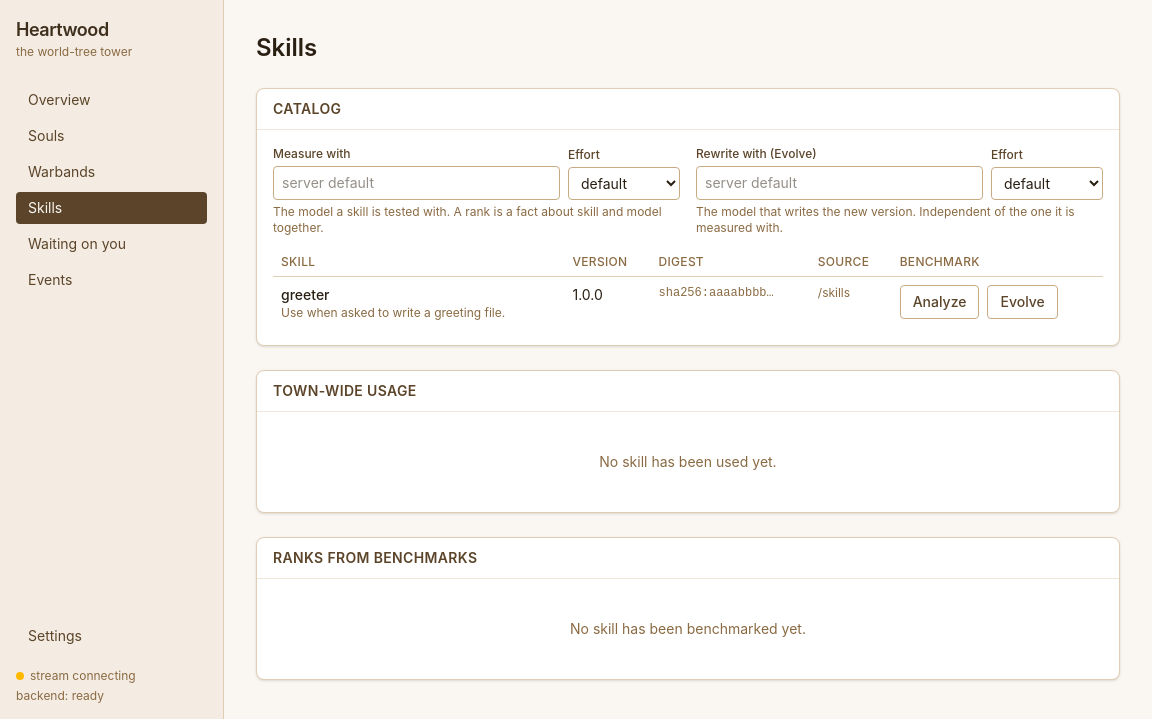
Test: pages › skills catalog actions › says so when a benchmark was inconclusive instead of inventing a rank
What coordinates should you click on to do the following:
click the button "Analyze"
I would click on:
 (940, 302)
Its box is left=900, top=285, right=980, bottom=319.
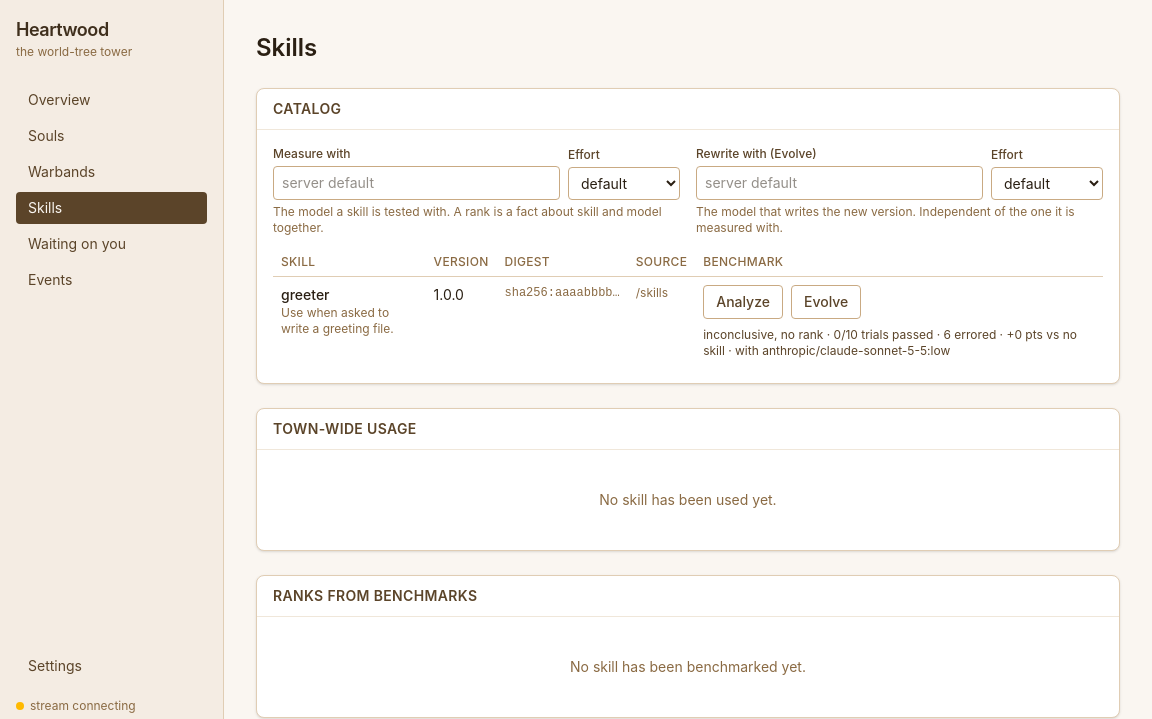
Check: the text "inconclusive, no rank · 0/10 trials passed · 6 errored" is shown, box left=703, top=327, right=1077, bottom=358
